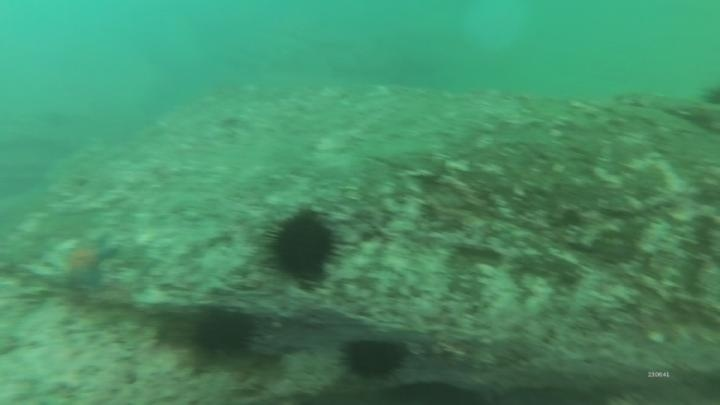echinus: (260, 205, 345, 287), (185, 303, 260, 365), (337, 333, 410, 383)
starfish: (55, 232, 121, 293)
